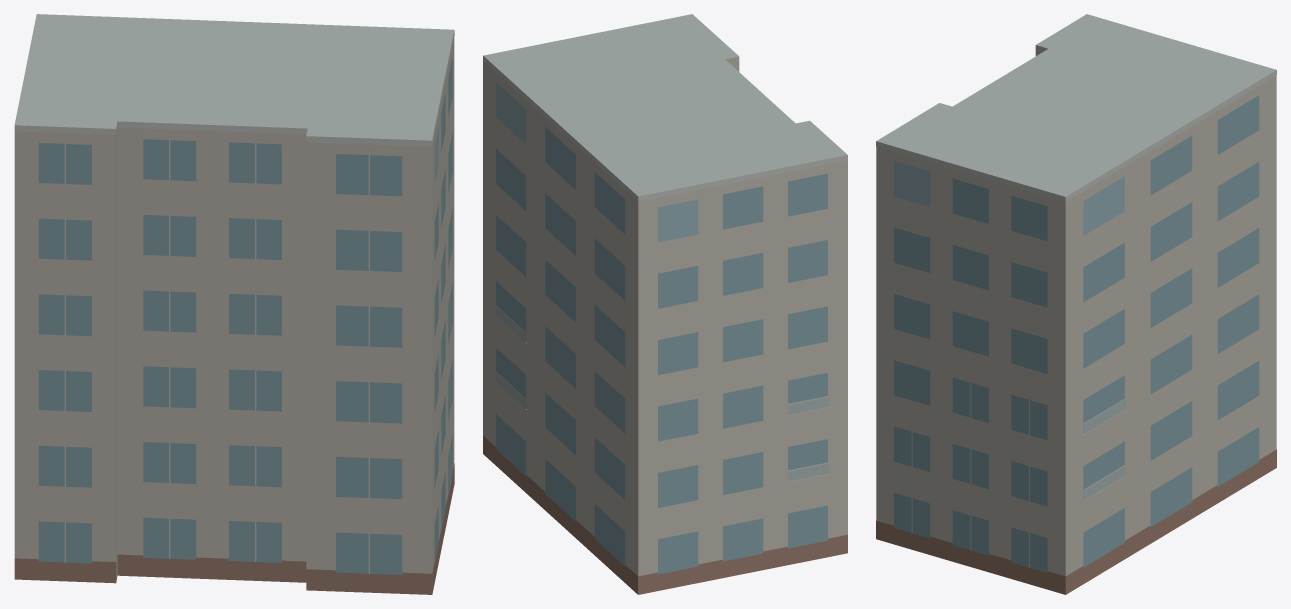
File: survey-upis-32739312.glb
3 views of the same model, side by side, from view 1: azimuth 30°, elevation 25°; view 2: azimuth 150°, elevation 25°; view 3: azimuth 270°, elevation 25° (orthographic). The views are drawn at different scales.
Parts seen in each view (by area): view 1: survey-upis-32739312.tmp; view 2: survey-upis-32739312.tmp; view 3: survey-upis-32739312.tmp.
Part boxes in pixels (x1=…): survey-upis-32739312.tmp: x1=14, y1=14, x2=454, y2=594; survey-upis-32739312.tmp: x1=483, y1=14, x2=847, y2=594; survey-upis-32739312.tmp: x1=876, y1=14, x2=1276, y2=594.
Size of the model in its own units: 18.35 by 18.6 by 16.98.
